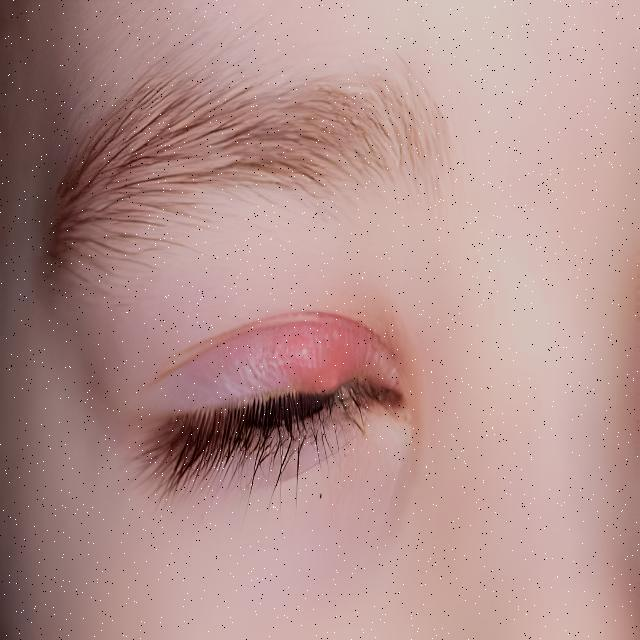Stye: (255, 318, 390, 432)
